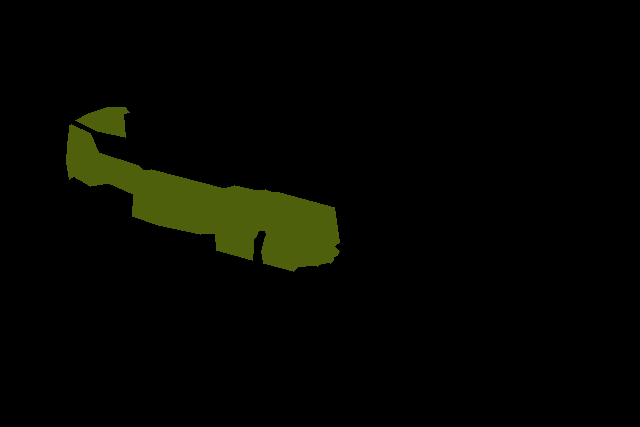Train: (66, 107, 340, 272)
